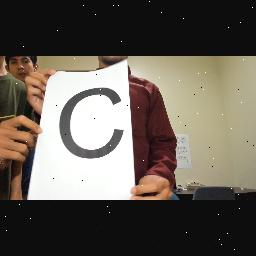c: (57, 84, 125, 162)
